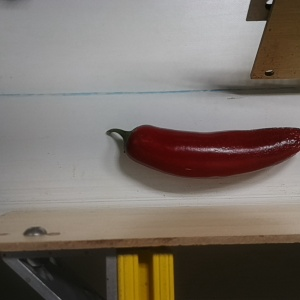Cut Point: (113, 123, 152, 160)
